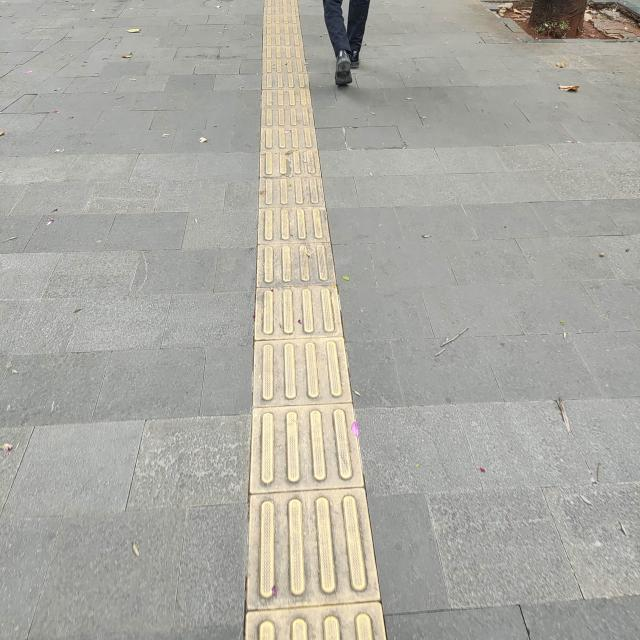lurus: (223, 15, 360, 632)
